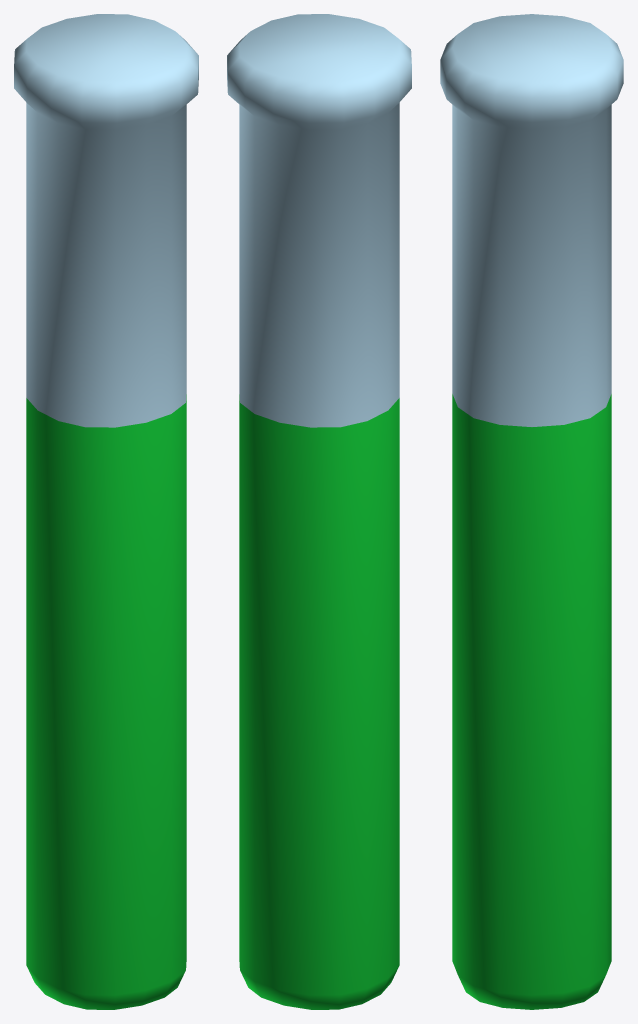
Rendered from Green flask tube.fbx.
The picture shows the model from 3 angles, left to right: view 1: azimuth 30°, elevation 25°; view 2: azimuth 150°, elevation 25°; view 3: azimuth 270°, elevation 25°; orthographic projection.
Parts seen in each view (by area): view 1: Green flask tube; view 2: Green flask tube; view 3: Green flask tube.
Part boxes in pixels (<box>): Green flask tube: <box>14,14,198,1009</box>; Green flask tube: <box>227,14,411,1009</box>; Green flask tube: <box>440,14,623,1009</box>.
Bounding box in the file's own units: 5.49 × 31.09 × 5.49.
